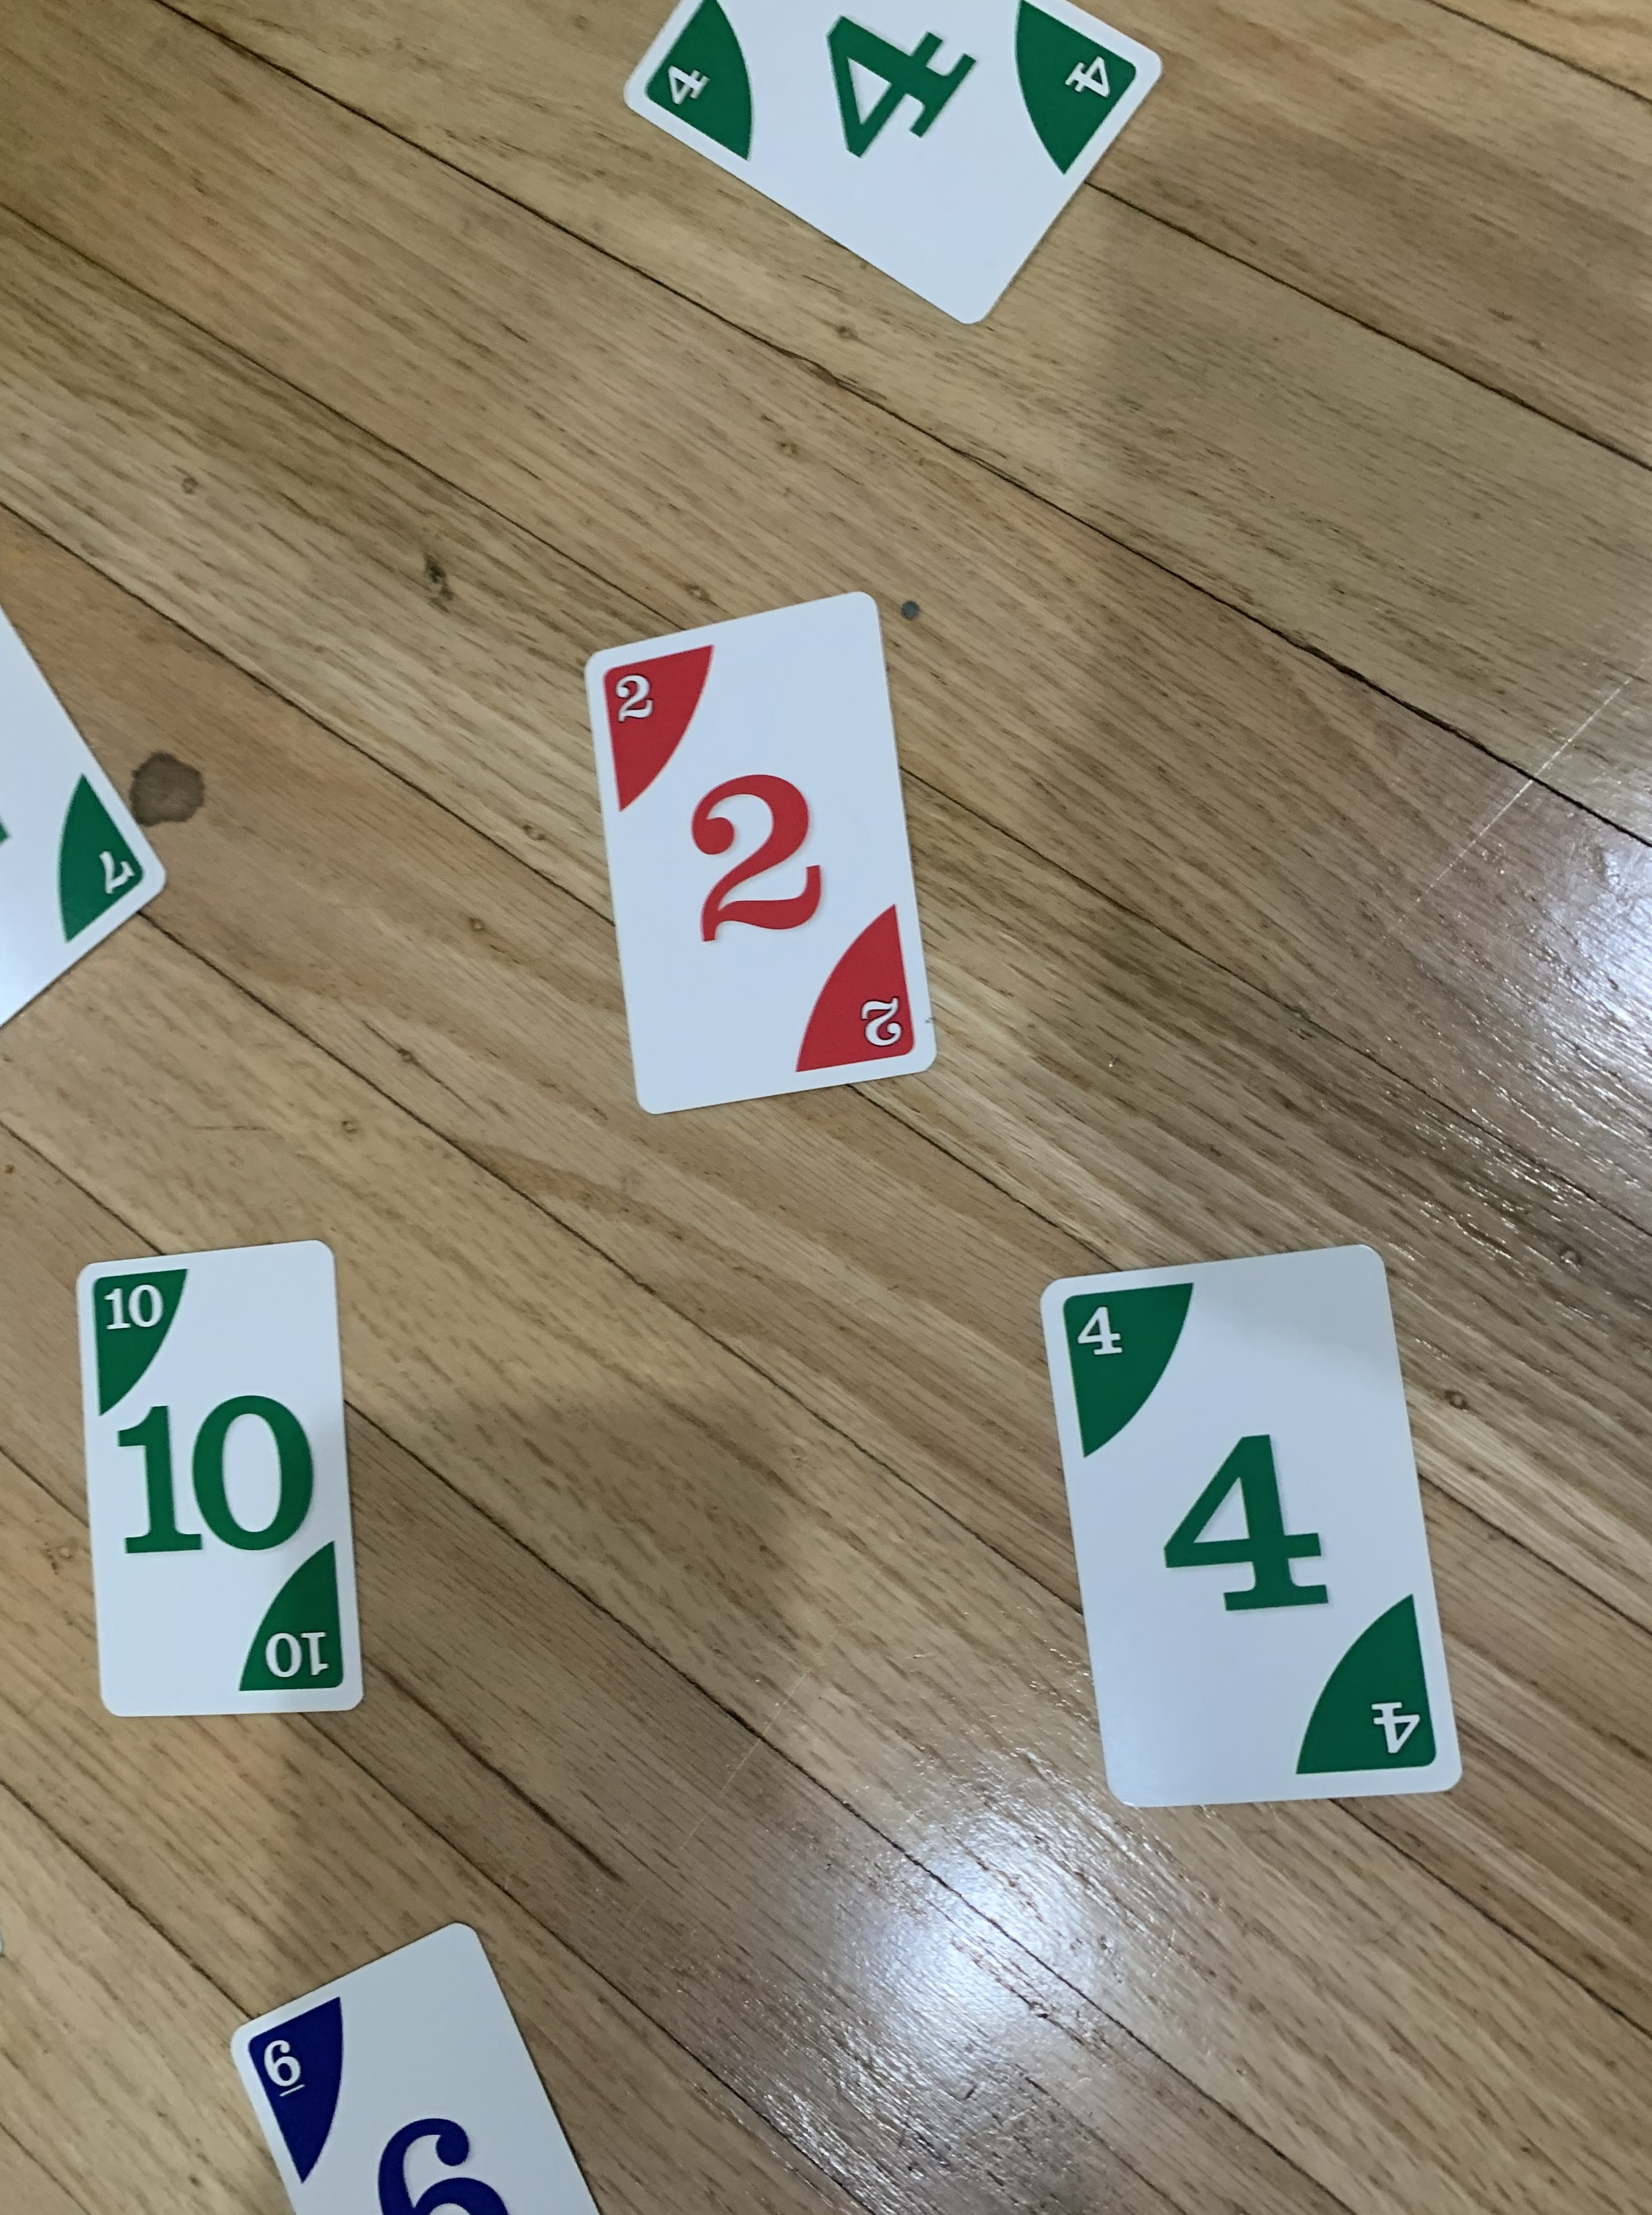four: (1026, 1238, 1475, 1830), (625, 2, 1168, 337)
ten: (66, 1227, 378, 1729)
two: (578, 578, 947, 1116)
